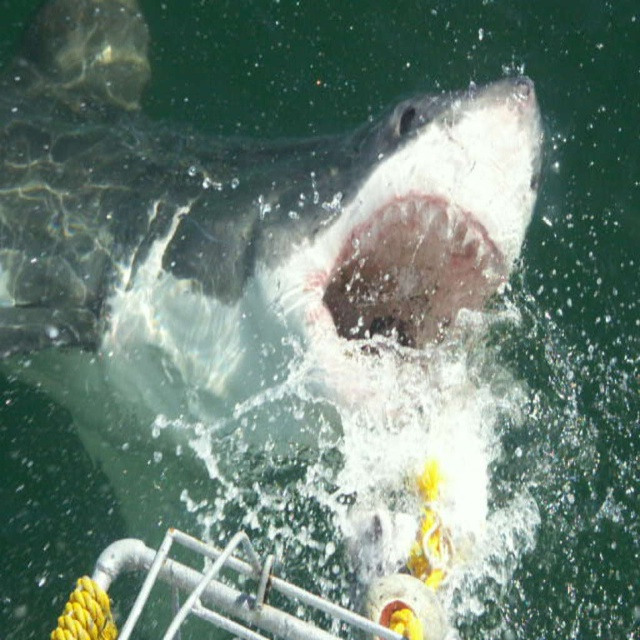Shark: (0, 0, 542, 640)
